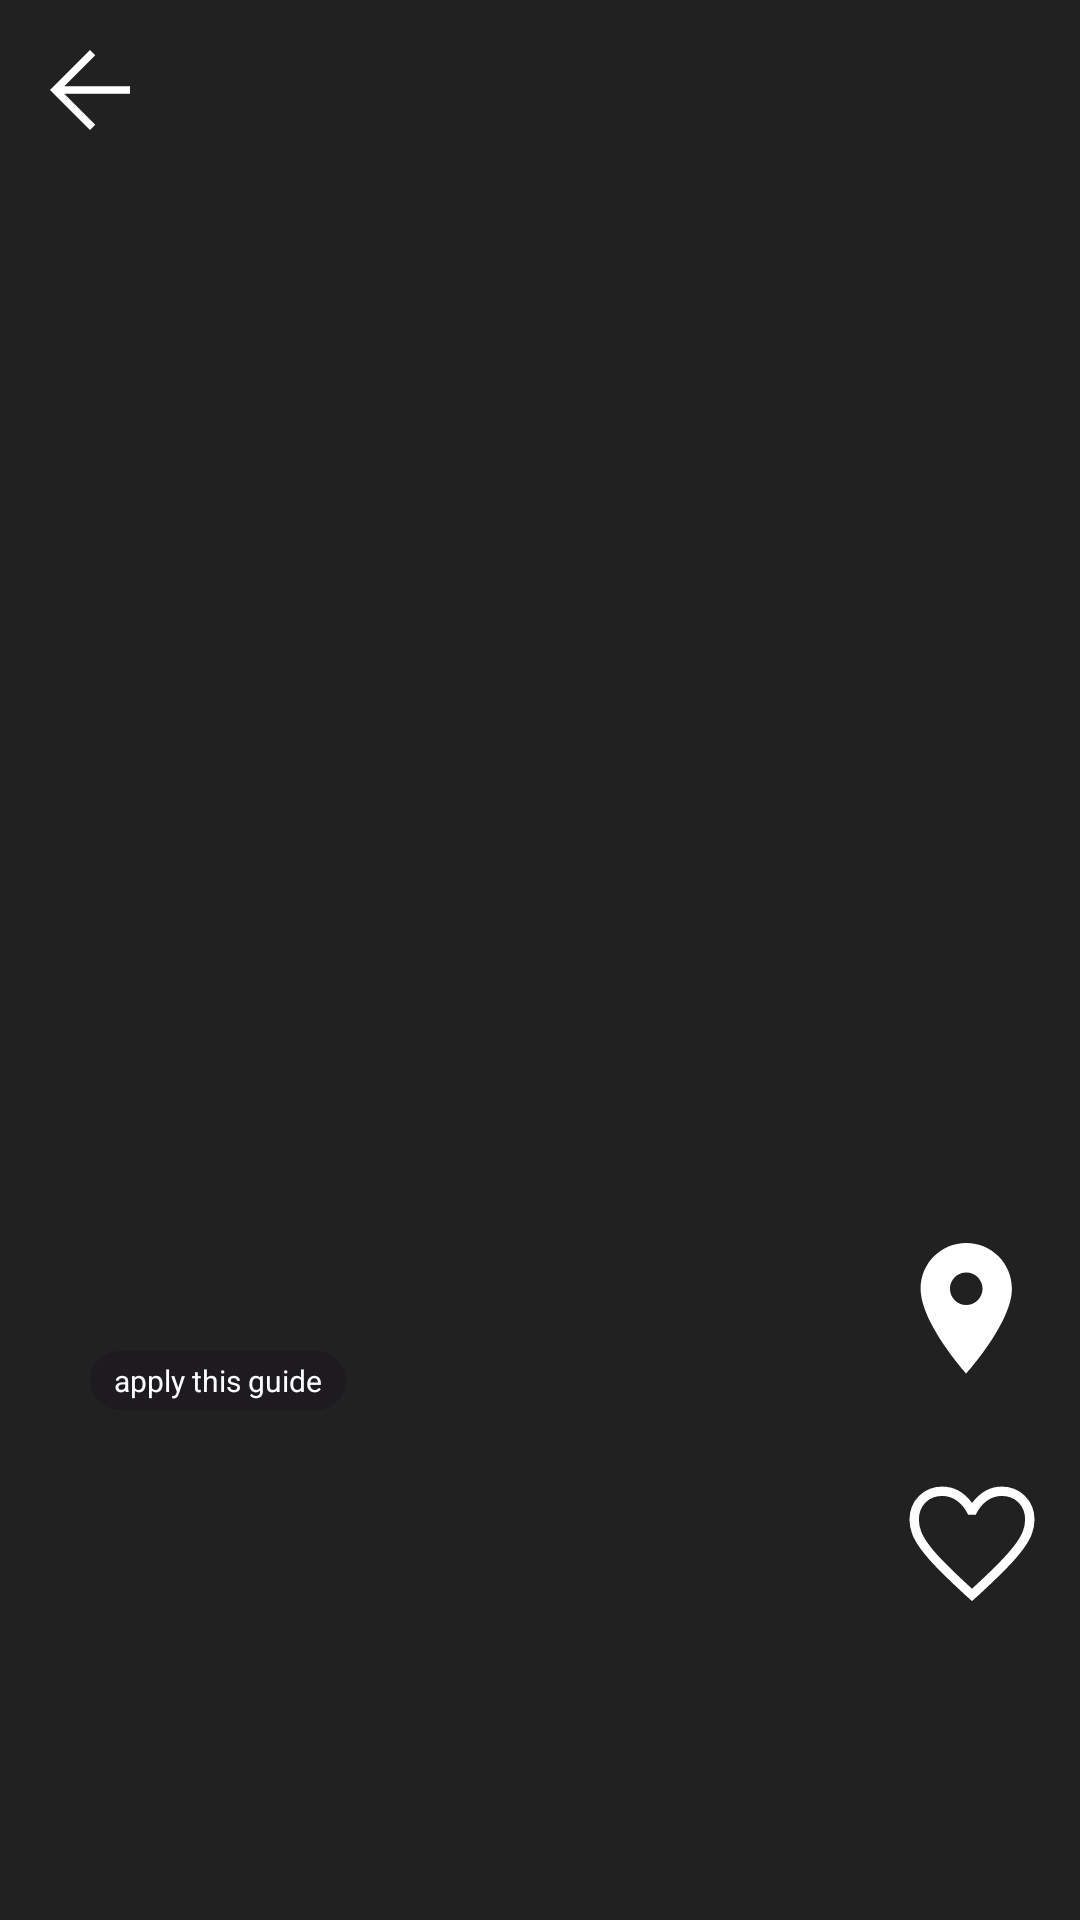

Screen size 1080px×1920px. Icon name, then its center in pixels as (x=x, y=y):
arrow back: (x=90, y=90)
favorite: (x=972, y=1543)
location on: (x=966, y=1308)
